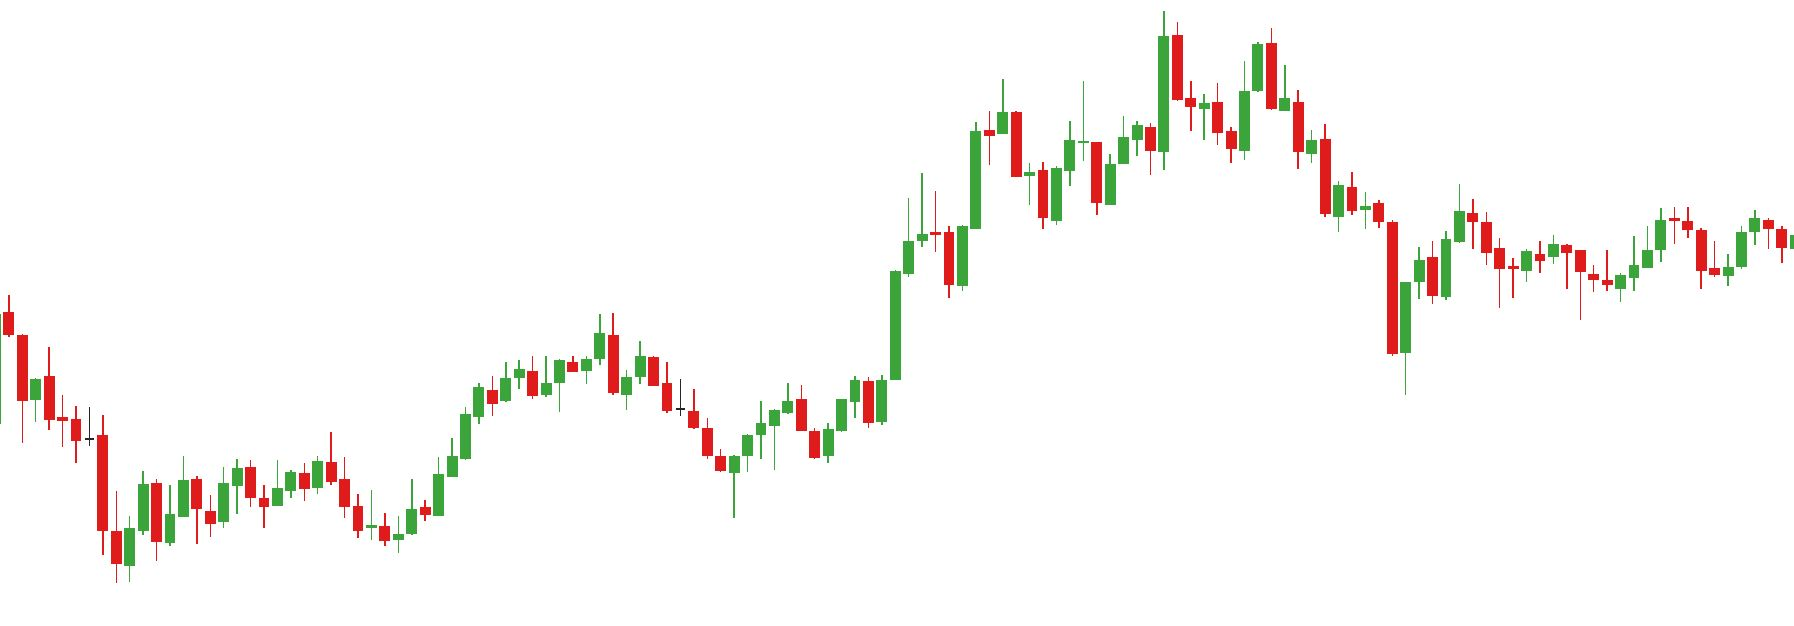sell: (1077, 14, 1185, 177)
